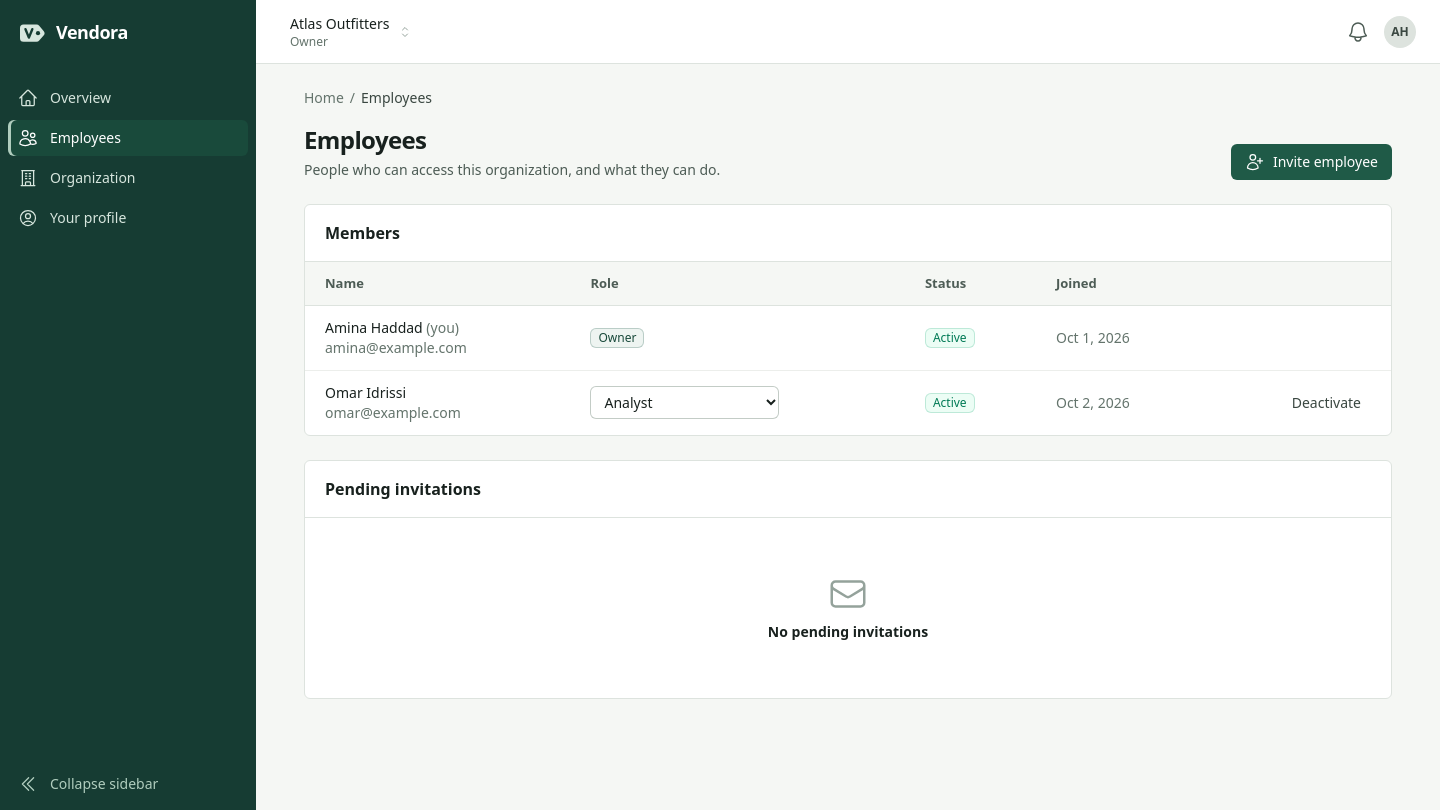
Test: EmployeesPage › the invite form shows a server field error
Click the button "Invite employee".
click(1312, 162)  # box [1231, 144, 1392, 180]
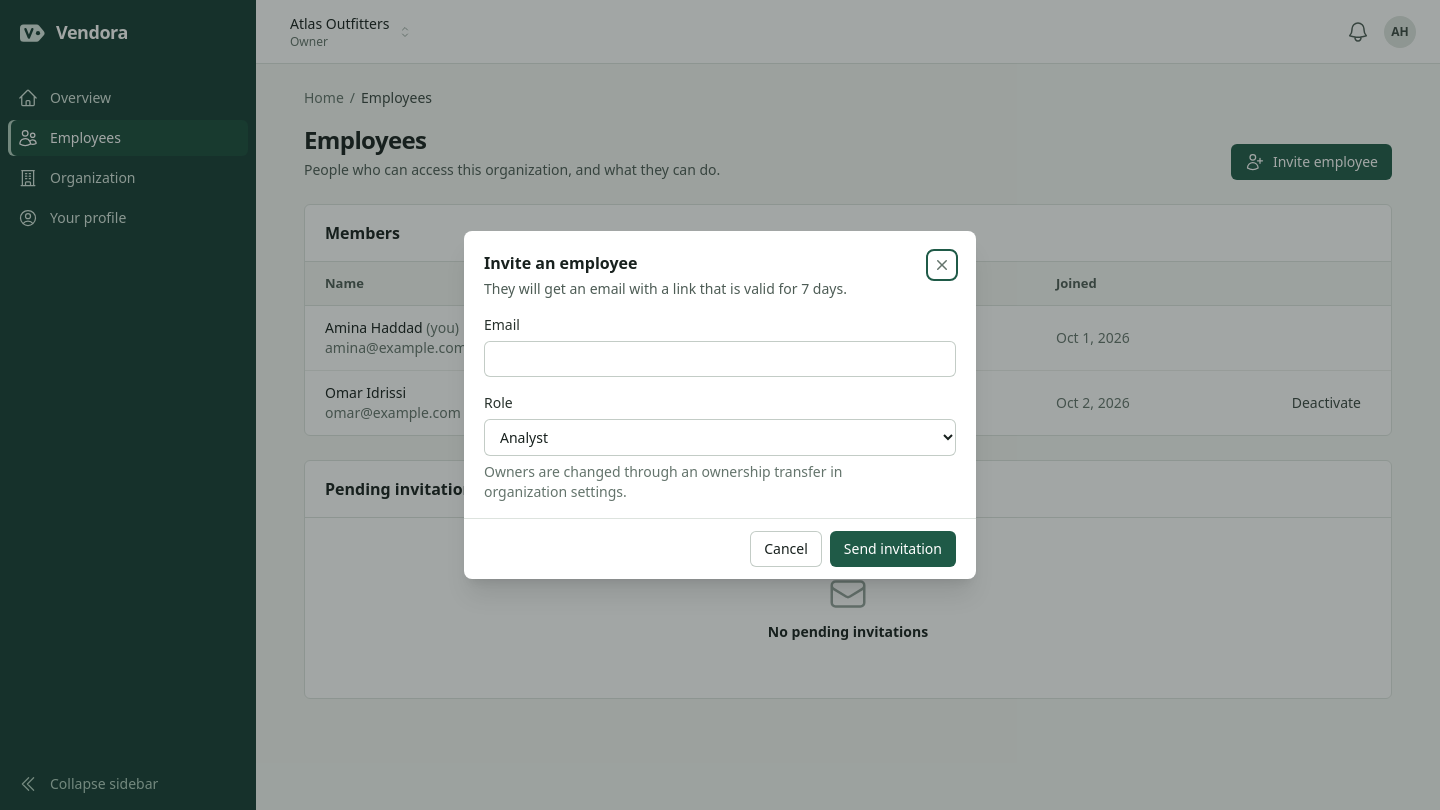
Type "omar@example.com" into the field labelled "Email".
click(720, 359); type("omar@example.com")  # box [484, 341, 956, 377]
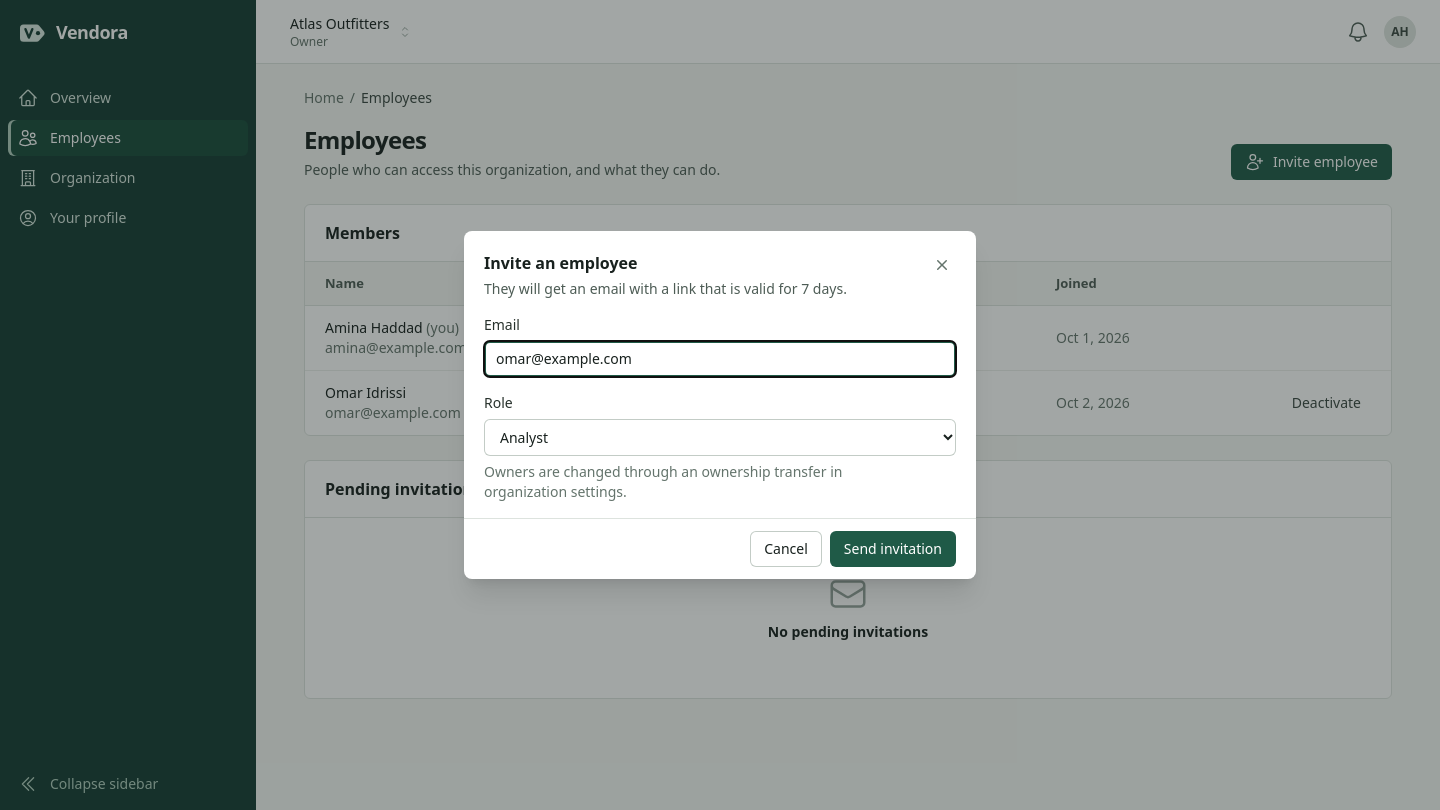
Click the button "Send invitation".
click(893, 549)  # box [830, 531, 956, 567]
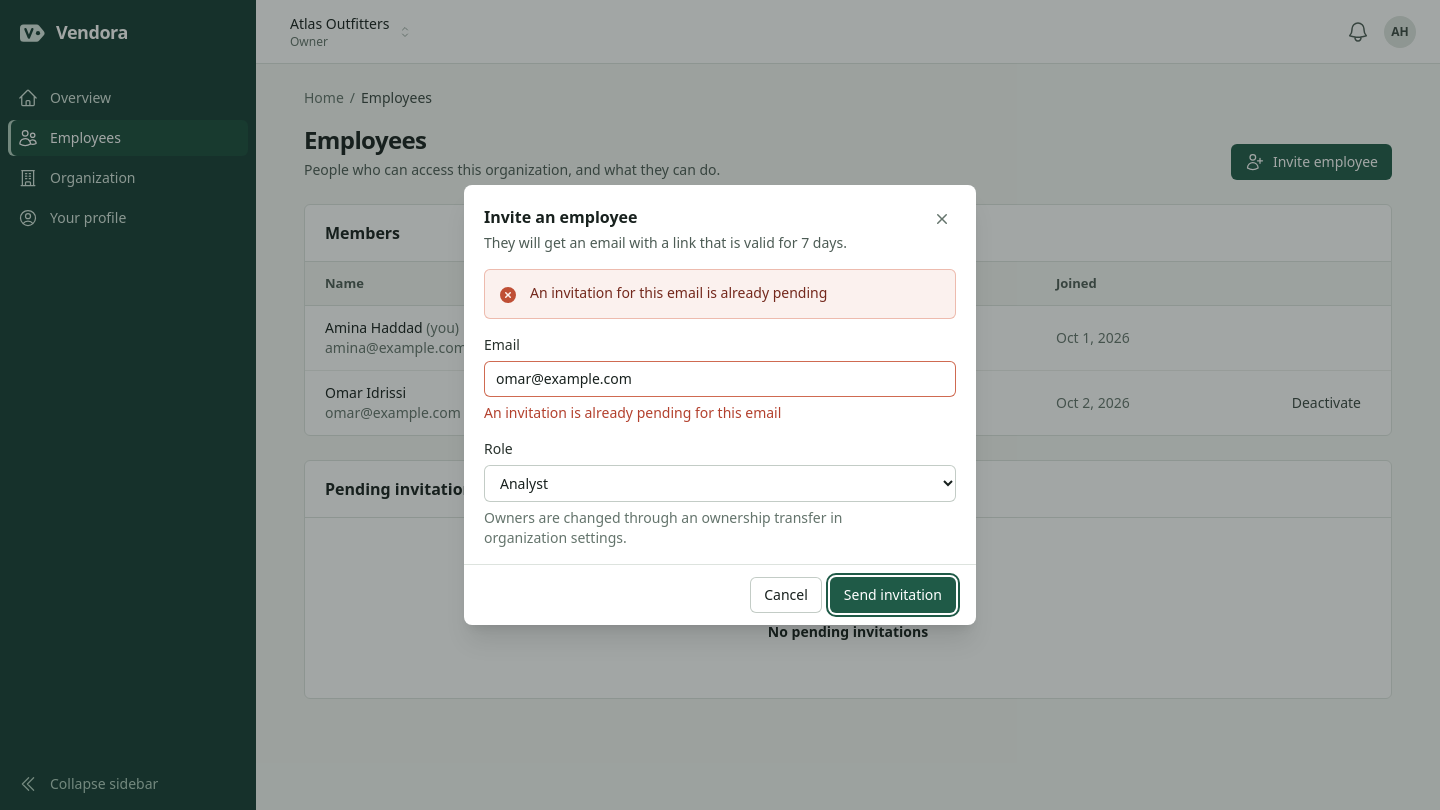
Expected: the text "An invitation is already pending for this email" is shown, [484, 403, 781, 422]
